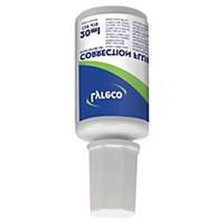correction_fluid: (72, 2, 151, 222)
